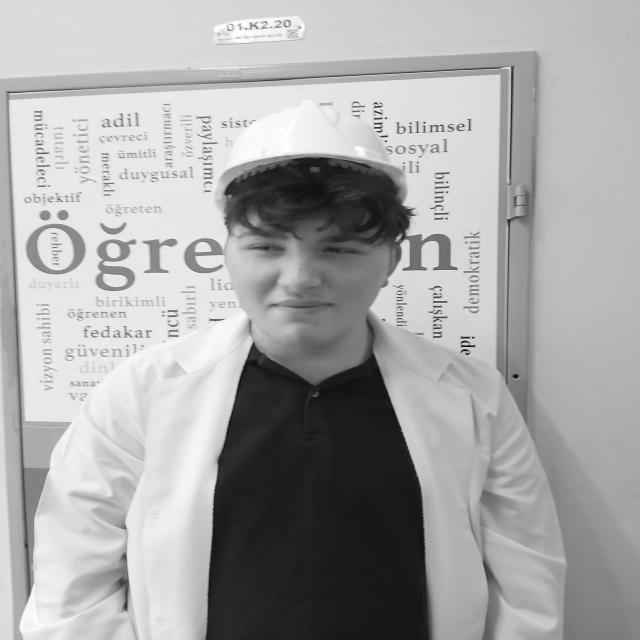construction helmet: (215, 102, 400, 197)
